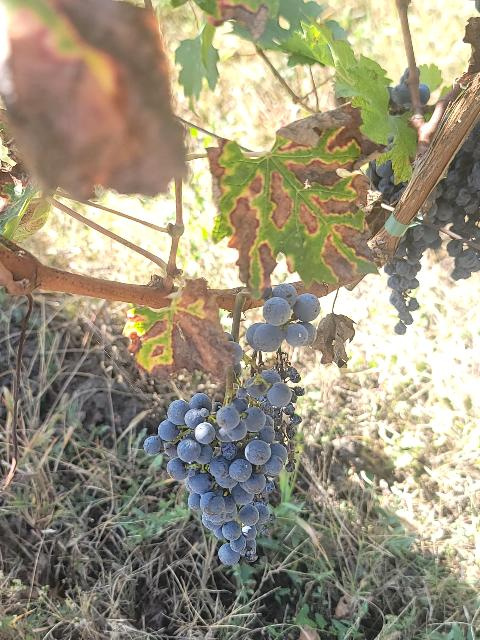grapes: (144, 360, 304, 565)
